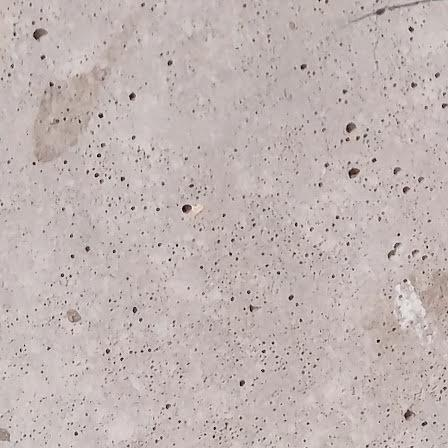crack: (370, 3, 390, 99)
spalling: (347, 166, 364, 180)
